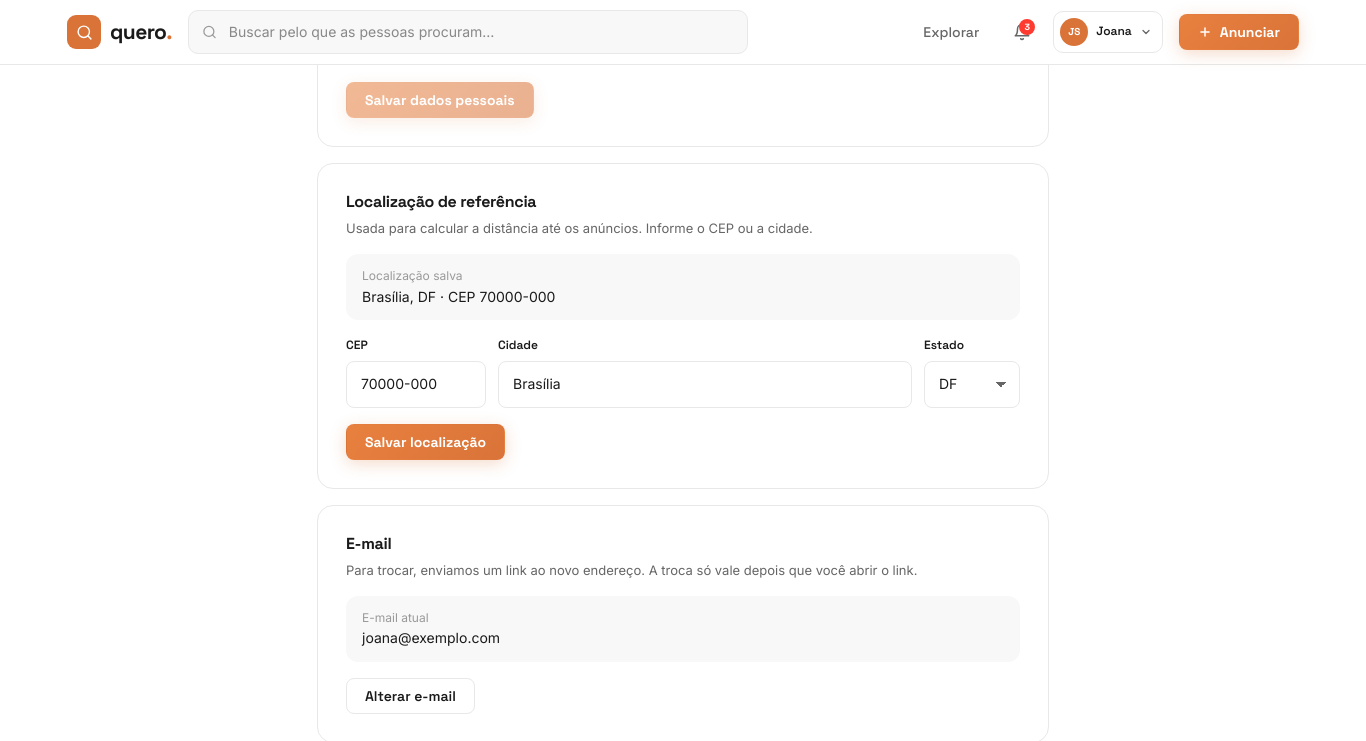
Test: perfil › atualiza a localização e reflete no menu da conta
(page scrolled)
Clear the field labelled "CEP". click: (416, 384)
box: left=346, top=361, right=486, bottom=408
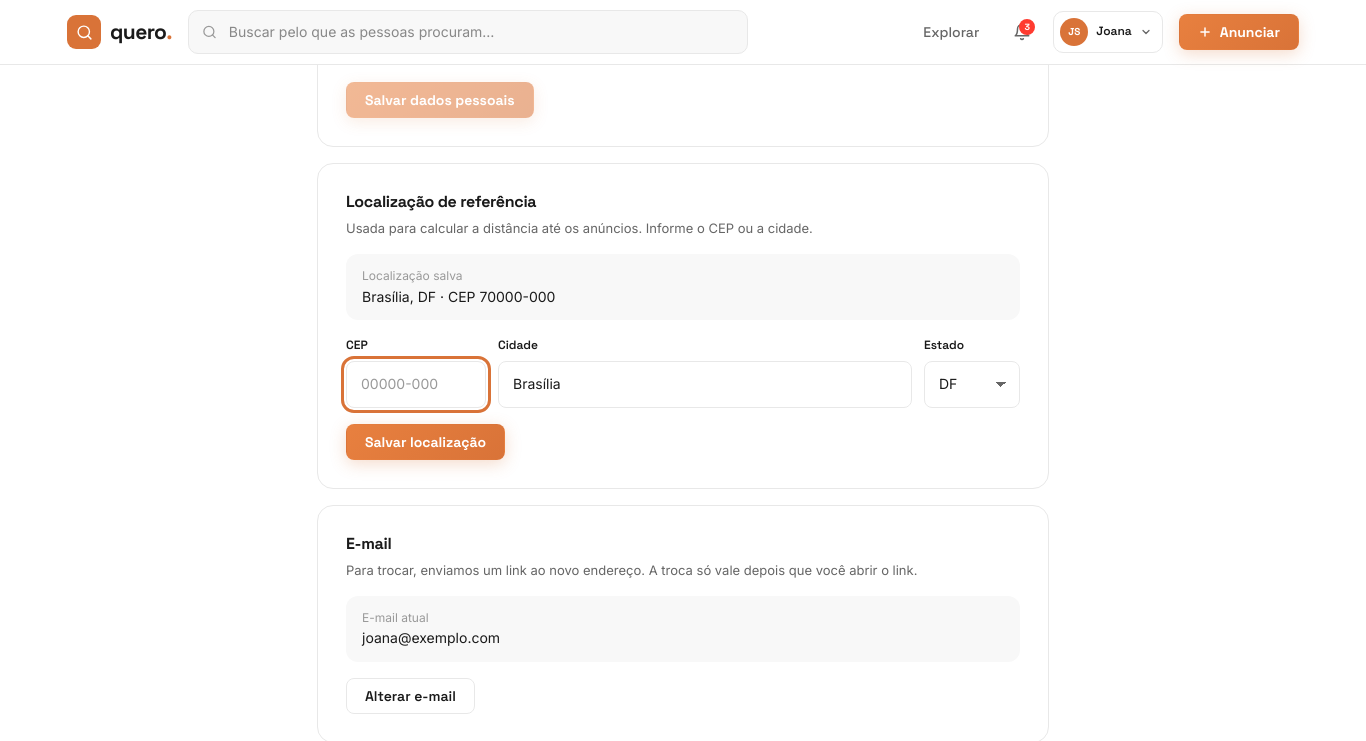
Replace the text in the field labelled "Cidade" with "Goiânia". click: (705, 384)
box: left=498, top=361, right=912, bottom=408
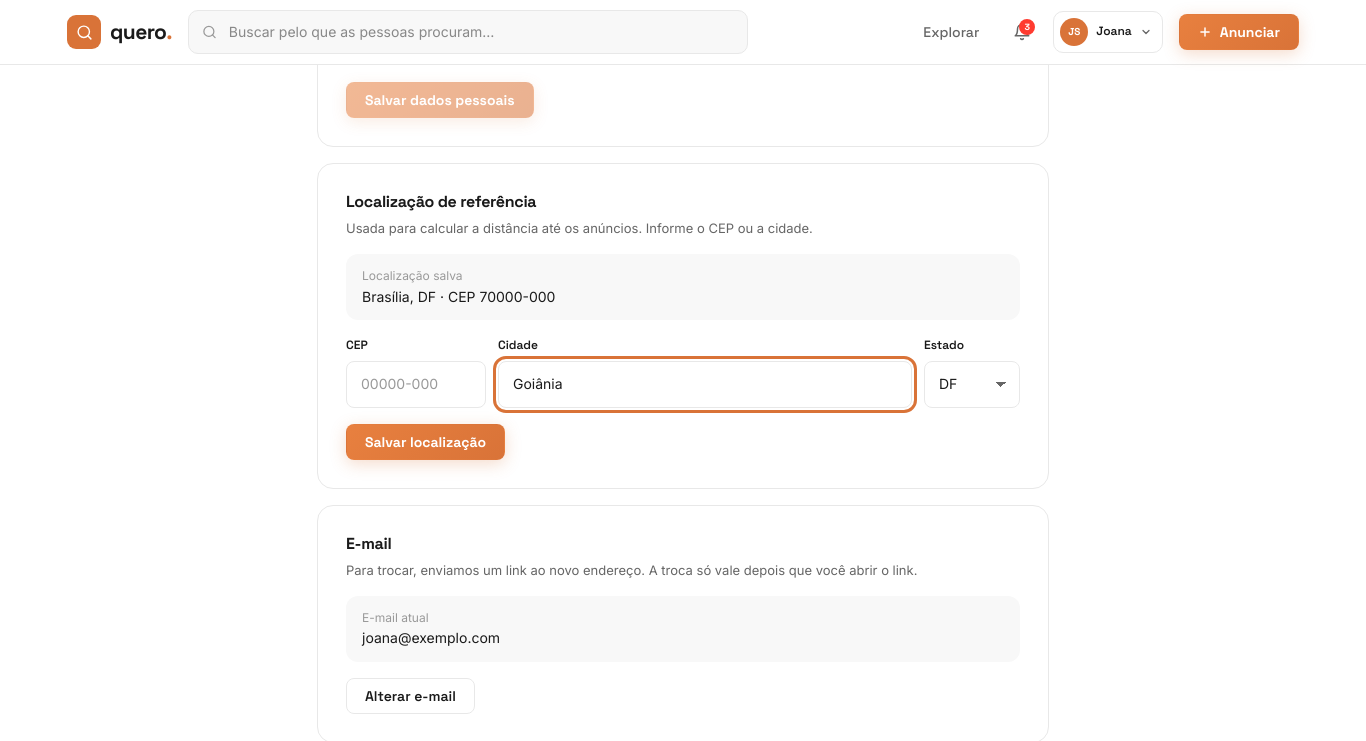
Select "GO" in the dropdown labelled "Estado". click: (972, 384)
box: left=924, top=361, right=1020, bottom=408
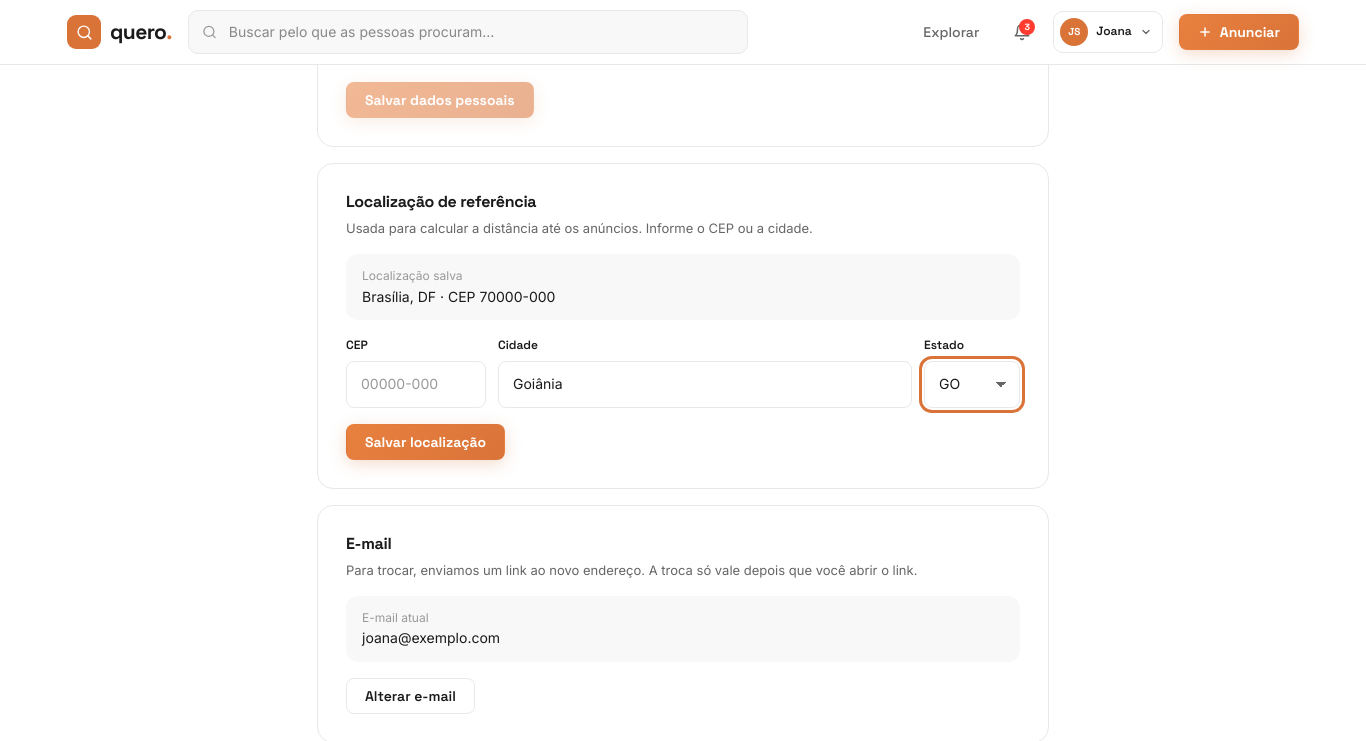
Click the button "Salvar localização". click: (426, 442)
box: left=346, top=424, right=505, bottom=460
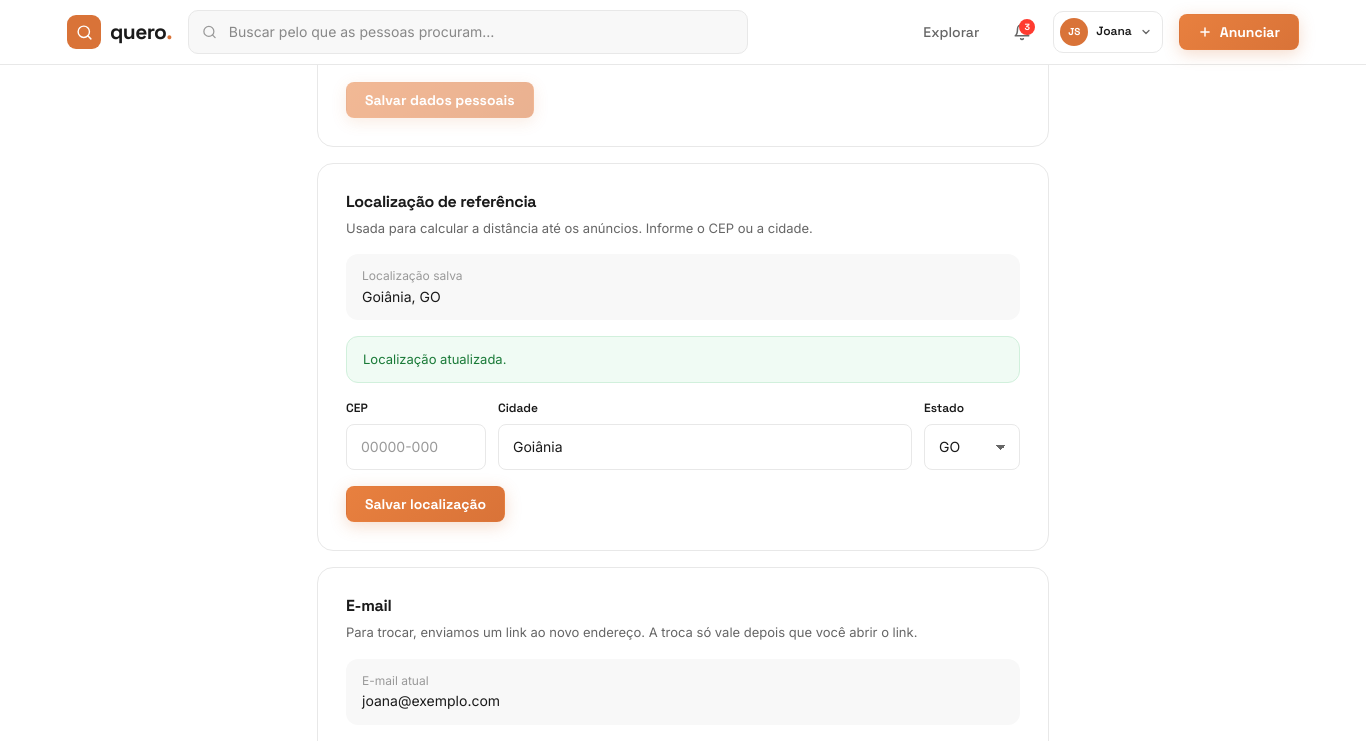
Now the text "Localização atualizada." is shown, box left=346, top=336, right=1020, bottom=383
Now the text "Goiânia, GO" is shown, box left=362, top=288, right=441, bottom=304
Click the button "JS Joana". click: (1108, 32)
box: left=1053, top=11, right=1163, bottom=53
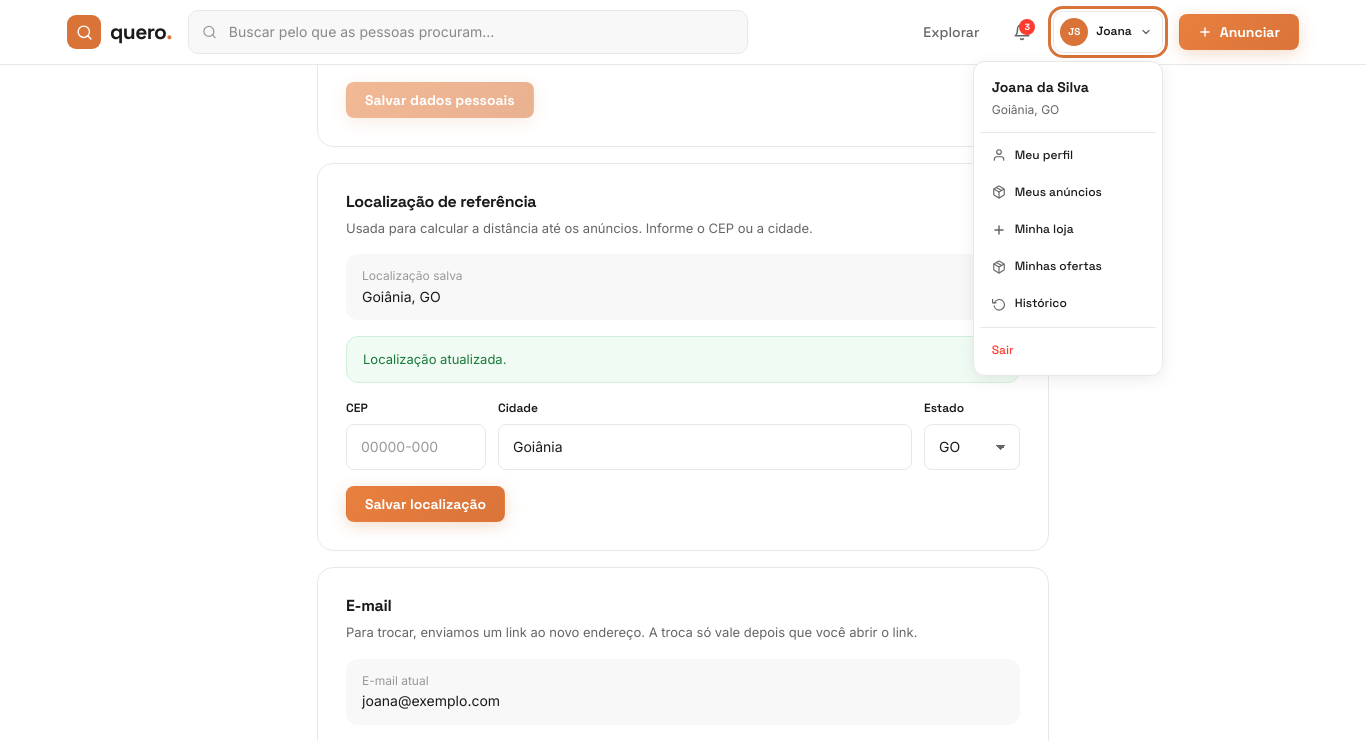
Now the menu shows "Goiânia, GO", box left=992, top=102, right=1059, bottom=117
